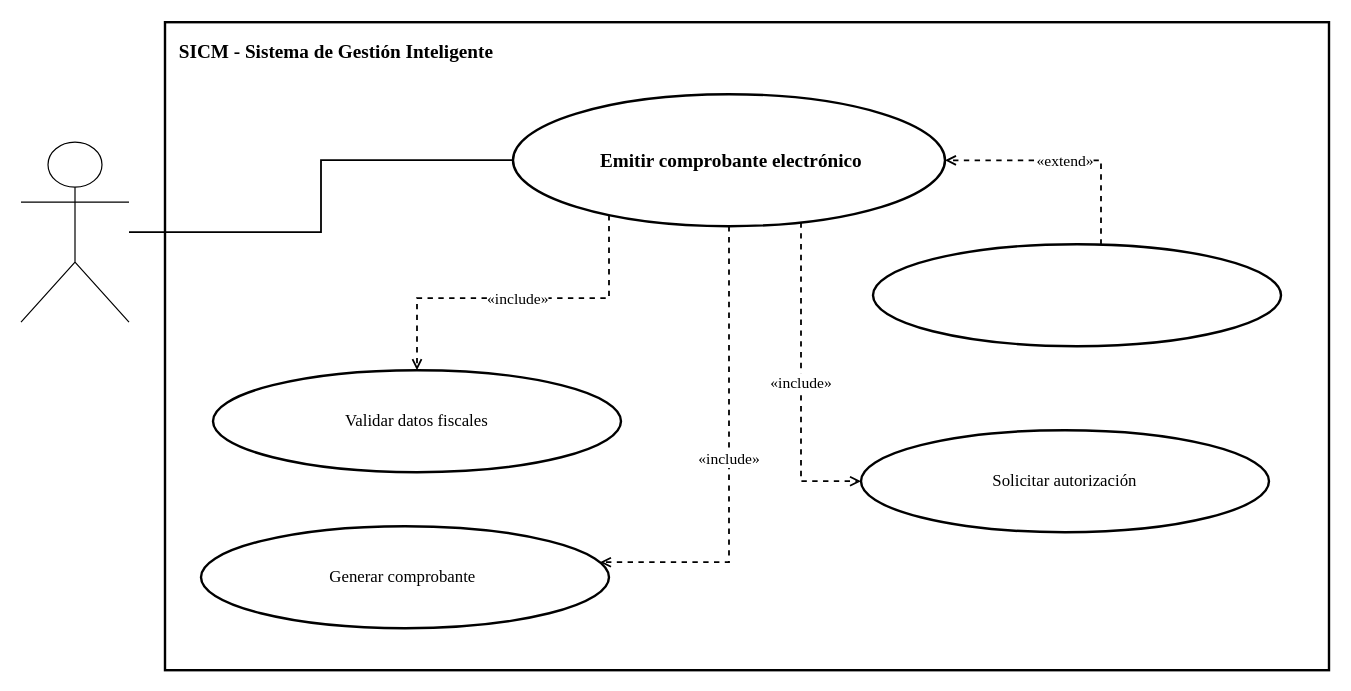
Some shapes in this 1351 by 691 pixel diagram are drawn without their labels. The shapes that lost their labels are listed below. From the top down, each one's box as (x1, y1, x2, y2) in pixels, then its label:
(20, 141, 129, 322): Recepcionista
(871, 242, 1282, 347): Notificar fallo de emisión
